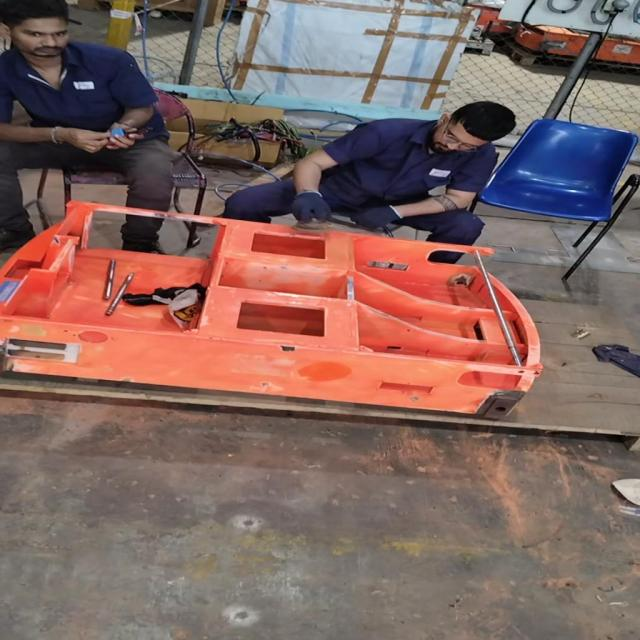Gloves-Detection: (288, 189, 330, 222), (355, 205, 399, 231)
